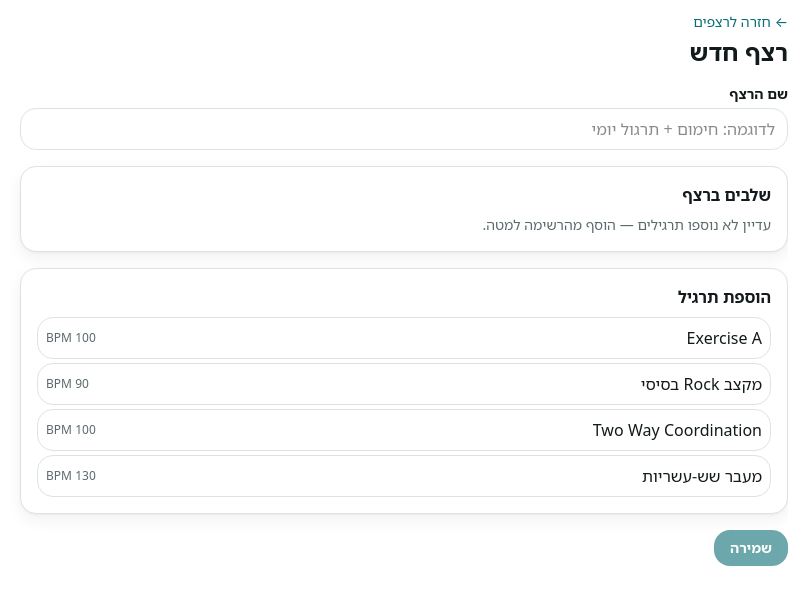
Test case: RoutineBuilderPage › keeps the save button disabled until a title and at least one step exist
This screenshot has width=800, height=613.
Expected: the button "שמירה" is disabled, 714,530 -> 788,566
In the field labelled "שם הרצף": (404, 129) 20,108 -> 788,150, type "My Routine"
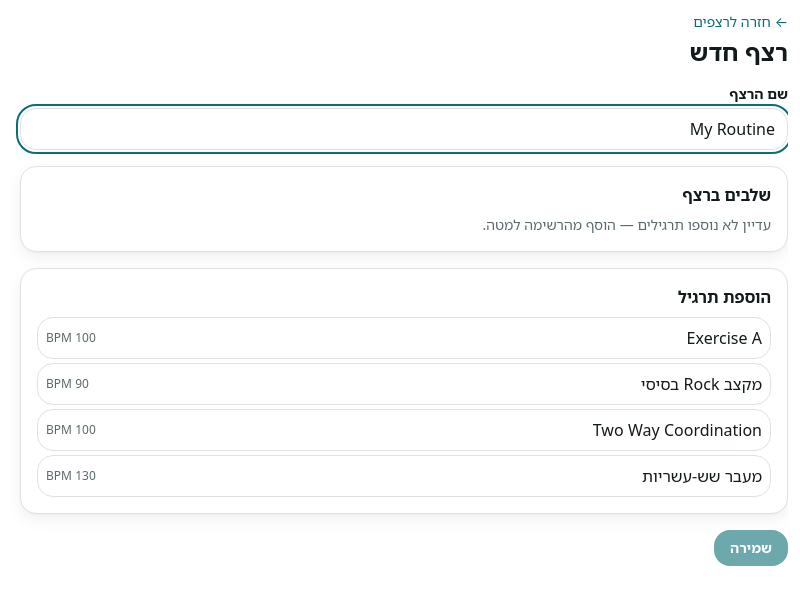
Expected: the button "שמירה" is disabled, 714,530 -> 788,566
Click the button "Exercise A 100 BPM": (724, 338) 37,317 -> 771,359
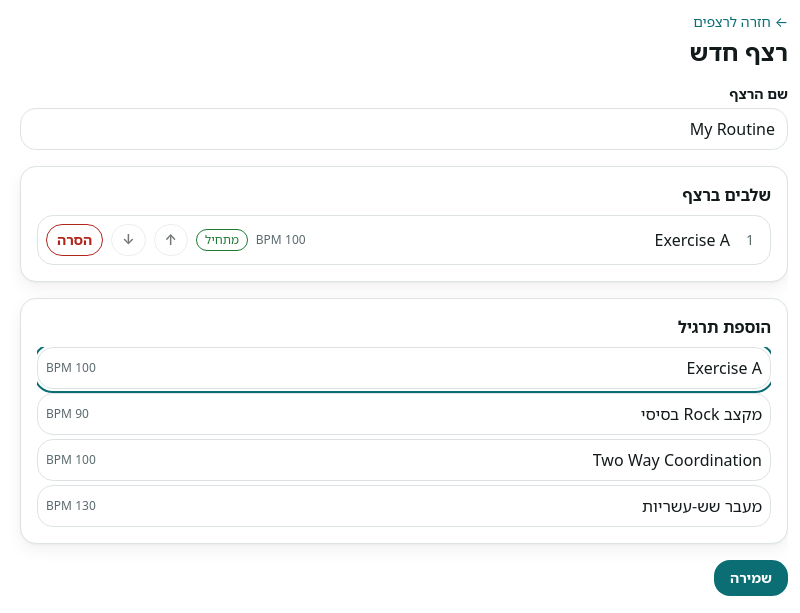
Expected: the button "שמירה" is enabled, 714,560 -> 788,596
